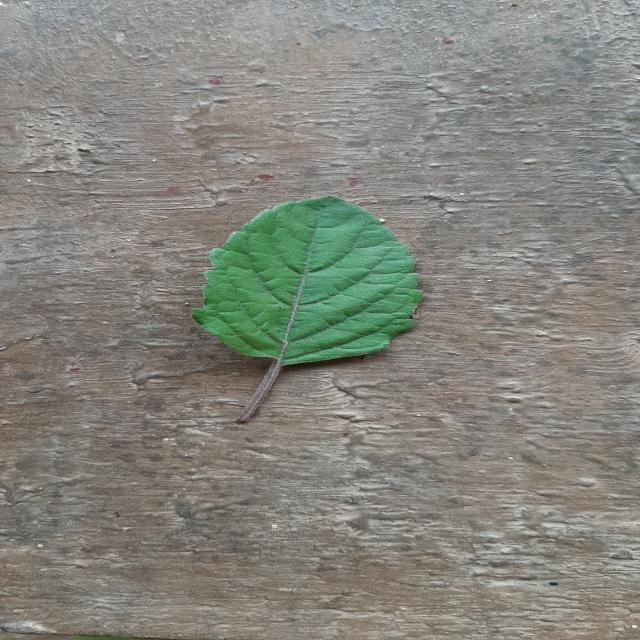tulsi: (192, 196, 423, 365)
